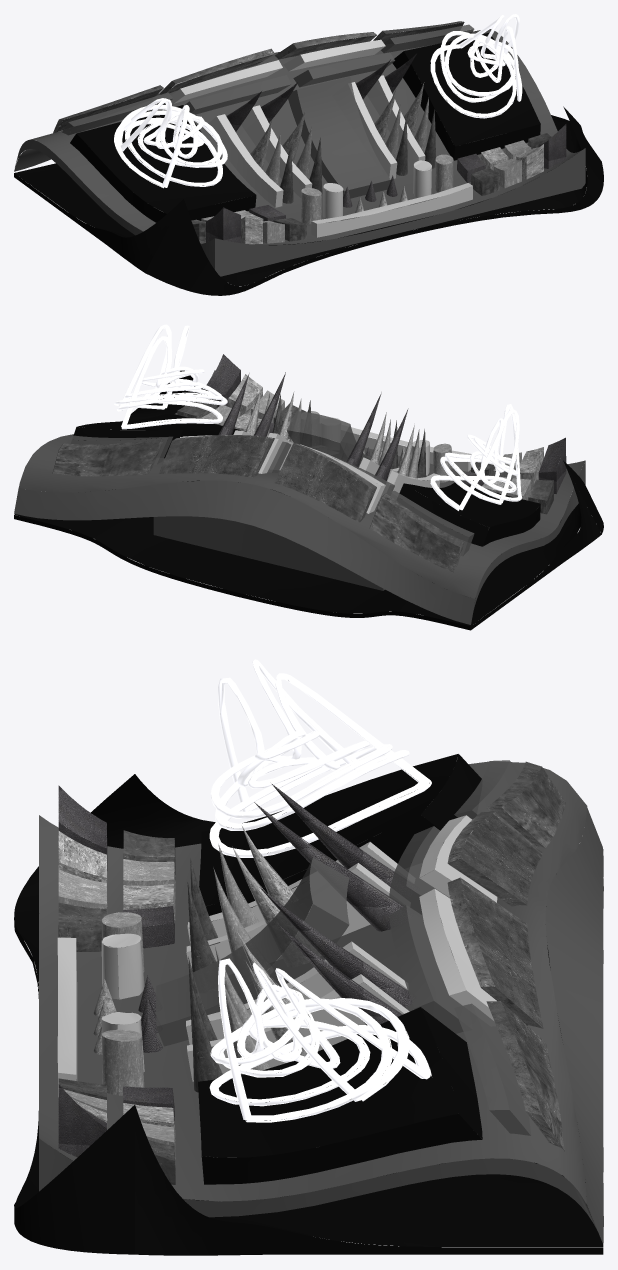
Rendered from dj2-BLACK-OG-v44.glb.
3 views of the same model, one above another, from view 1: azimuth 30°, elevation 25°; view 2: azimuth 150°, elevation 25°; view 3: azimuth 270°, elevation 25° (orthographic). The views are drawn at different scales.
Visible parts, largest first — view 1: DJSET_2-REDUCED, base2, slider, donen dalga, ekran2, tus2, tsu4; view 2: DJSET_2-REDUCED, base2, ekran2, donen dalga, tus2, slider, tsu4; view 3: DJSET_2-REDUCED, base2, donen dalga, ekran2, slider, tsu4, tus2.
Part boxes in pixels (bbox=[...]): DJSET_2-REDUCED: bbox=[14, 24, 585, 276]; base2: bbox=[14, 33, 603, 295]; slider: bbox=[170, 39, 472, 237]; donen dalga: bbox=[114, 14, 522, 188]; ekran2: bbox=[53, 21, 464, 132]; tus2: bbox=[234, 82, 543, 244]; tsu4: bbox=[191, 109, 551, 242]; DJSET_2-REDUCED: bbox=[14, 354, 585, 624]; base2: bbox=[14, 370, 603, 630]; ekran2: bbox=[52, 435, 464, 572]; donen dalga: bbox=[114, 324, 522, 510]; tus2: bbox=[228, 374, 543, 493]; slider: bbox=[180, 417, 471, 513]; tsu4: bbox=[177, 394, 553, 514]; DJSET_2-REDUCED: bbox=[39, 760, 603, 1243]; base2: bbox=[14, 754, 603, 1255]; donen dalga: bbox=[209, 659, 431, 1122]; ekran2: bbox=[447, 761, 565, 1150]; slider: bbox=[57, 815, 497, 1097]; tsu4: bbox=[58, 830, 222, 1184]; tus2: bbox=[58, 826, 318, 1144].
Bounding box in the file's own units: 1.2 × 0.4006 × 0.7509.
11 materials, 5 textured.
